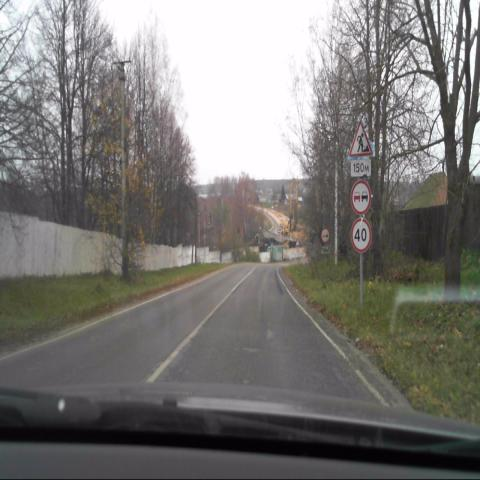3_20: (350, 178, 372, 213)
